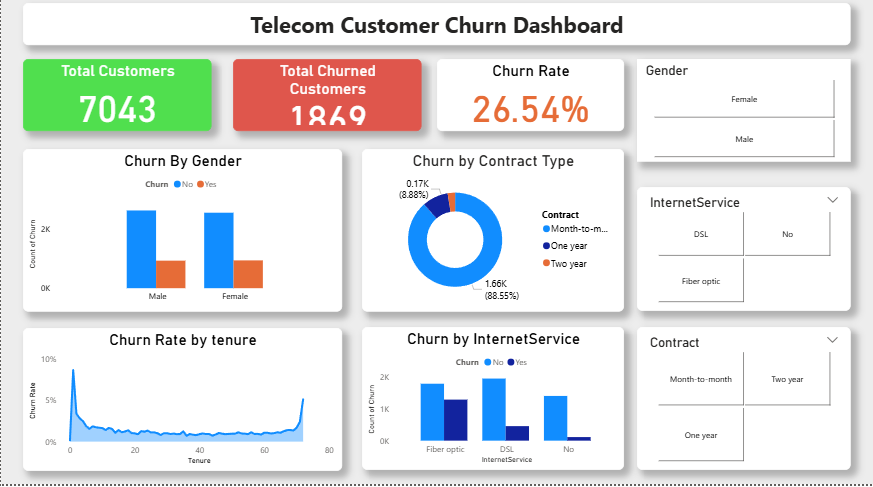

Layout of this report page (visuals, bound fields, positions):
{"tool":"powerbi","page":{"name":"Page 1","canvas":[1280,720],"ordinal":0},"visuals":[{"type":"textbox","box":[31.9,13.4,1216.2,62.2],"z":0},{"type":"card","title":"Total Customers","fields":{"Values":["CountNonNull(Cleaned-Telecom-Data (1).customerID)"]},"box":[31.9,95.7,277.2,105.8],"z":1000},{"type":"card","title":"Total Churned Customers","fields":{"Values":["CountNonNull(Cleaned-Telecom-Data (1).Churn)"]},"box":[341,95.7,277.2,105.8],"z":2000},{"type":"card","title":"Churn Rate","fields":{"Values":["Max(data.Churn Rate)"]},"box":[640.7,95.5,274.8,105.8],"z":3000},{"type":"lineClusteredColumnComboChart","title":"Churn By Gender","fields":{"Category":["data.gender"],"Series":["data.Churn"],"Y":["CountNonNull(data.Churn)"]},"box":[31.9,228.5,468.7,238.5],"z":4000},{"type":"donutChart","title":"Churn by Contract Type","fields":{"Category":["data.Contract"],"Y":["CountNonNull(data.Churn)"]},"box":[530.8,228.5,384.7,238.5],"z":5000},{"type":"stackedAreaChart","title":"Churn Rate by tenure","fields":{"Category":["data.tenure"],"Y":["Divide(CountNonNull(data.Churn), ScopedEval(CountNonNull(data.Churn), []))"]},"box":[31.9,490.5,468.7,210],"z":6000},{"type":"clusteredColumnChart","title":"Churn by InternetService","fields":{"Category":["data.InternetService"],"Y":["CountNonNull(data.Churn)"],"Series":["data.Churn"]},"box":[531,490,385,210],"z":7000},{"type":"slicer","fields":{"Values":["data.gender"]},"box":[934.5,95.5,314.4,151.3],"z":8000},{"type":"slicer","fields":{"Values":["data.InternetService"]},"box":[934.5,283.6,314.4,182.2],"z":9000},{"type":"slicer","fields":{"Values":["data.Contract"]},"box":[935,490,314,210],"z":10000}]}

Visuals, with their boxes in screenshot pixels (x1, y1, x2, y2), scaled from the page's 1280x720 canvas onto the 873x487 screenshot:
textbox: box=[22, 9, 851, 51]
"Total Customers" card: box=[22, 65, 211, 136]
"Total Churned Customers" card: box=[233, 65, 422, 136]
"Churn Rate" card: box=[437, 65, 624, 136]
"Churn By Gender" lineClusteredColumnComboChart: box=[22, 155, 341, 316]
"Churn by Contract Type" donutChart: box=[362, 155, 624, 316]
"Churn Rate by tenure" stackedAreaChart: box=[22, 332, 341, 474]
"Churn by InternetService" clusteredColumnChart: box=[362, 331, 625, 473]
slicer - data.gender: box=[637, 65, 852, 167]
slicer - data.InternetService: box=[637, 192, 852, 315]
slicer - data.Contract: box=[638, 331, 852, 473]
